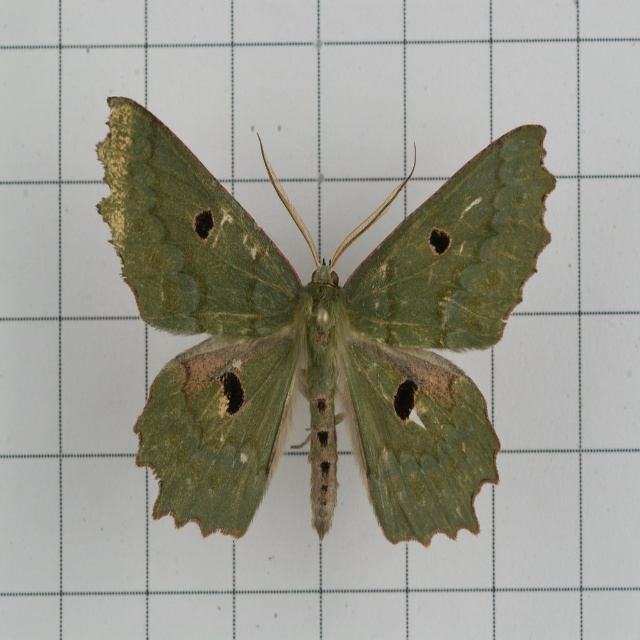Butterfly: (97, 98, 558, 546)
